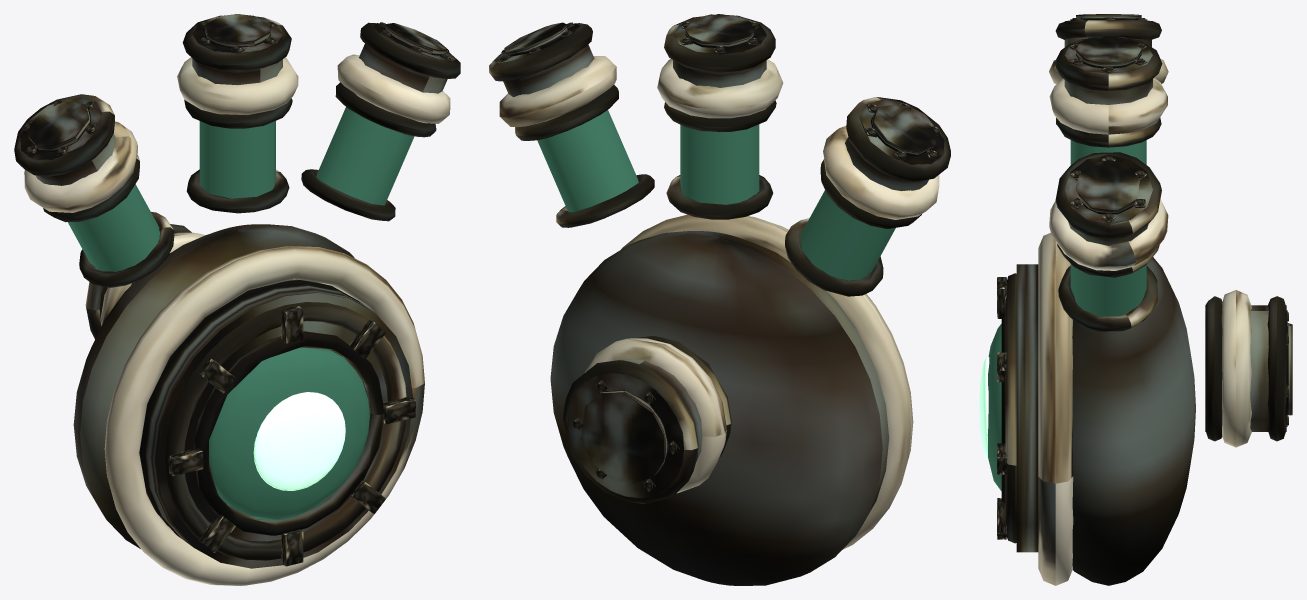
The model's file is organ-accelerator-icon-v1.glb.
The picture shows the model from 3 angles, left to right: view 1: azimuth 30°, elevation 25°; view 2: azimuth 150°, elevation 25°; view 3: azimuth 270°, elevation 25°; orthographic projection. The views are drawn at different scales.
Visible parts, largest first — view 1: organ-accelerator-icon-v1-steel, organ-accelerator-icon-v1-ceramic, organ-accelerator-icon-v1-brass, organ-accelerator-icon-v1-glass, organ-accelerator-icon-v1-light; view 2: organ-accelerator-icon-v1-steel, organ-accelerator-icon-v1-ceramic, organ-accelerator-icon-v1-brass, organ-accelerator-icon-v1-glass; view 3: organ-accelerator-icon-v1-steel, organ-accelerator-icon-v1-ceramic, organ-accelerator-icon-v1-brass, organ-accelerator-icon-v1-glass, organ-accelerator-icon-v1-light.
Part boxes in pixels (bbox=[...]): organ-accelerator-icon-v1-steel: bbox=[20, 14, 455, 568]; organ-accelerator-icon-v1-ceramic: bbox=[24, 54, 450, 585]; organ-accelerator-icon-v1-brass: bbox=[14, 14, 460, 566]; organ-accelerator-icon-v1-glass: bbox=[68, 107, 414, 520]; organ-accelerator-icon-v1-light: bbox=[253, 392, 345, 490]; organ-accelerator-icon-v1-steel: bbox=[494, 14, 944, 585]; organ-accelerator-icon-v1-ceramic: bbox=[499, 56, 939, 549]; organ-accelerator-icon-v1-brass: bbox=[489, 14, 950, 503]; organ-accelerator-icon-v1-glass: bbox=[537, 110, 895, 280]; organ-accelerator-icon-v1-steel: bbox=[1001, 14, 1292, 585]; organ-accelerator-icon-v1-ceramic: bbox=[1038, 59, 1251, 585]; organ-accelerator-icon-v1-brass: bbox=[997, 17, 1288, 543]; organ-accelerator-icon-v1-glass: bbox=[987, 140, 1146, 491]; organ-accelerator-icon-v1-light: bbox=[979, 356, 989, 459].
Bounding box in the file's own units: 0.7797 × 0.921 × 0.5027.
3 materials, 1 textured.
